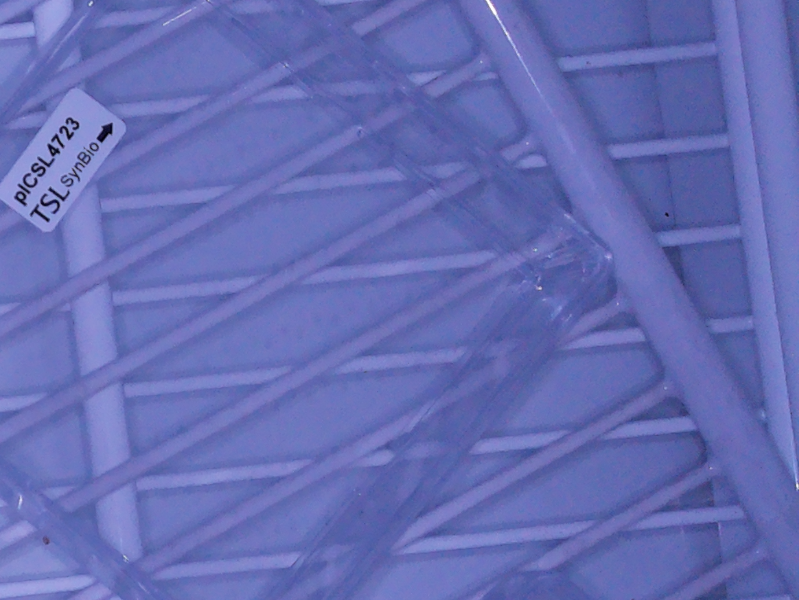plate: (1, 3, 614, 600)
